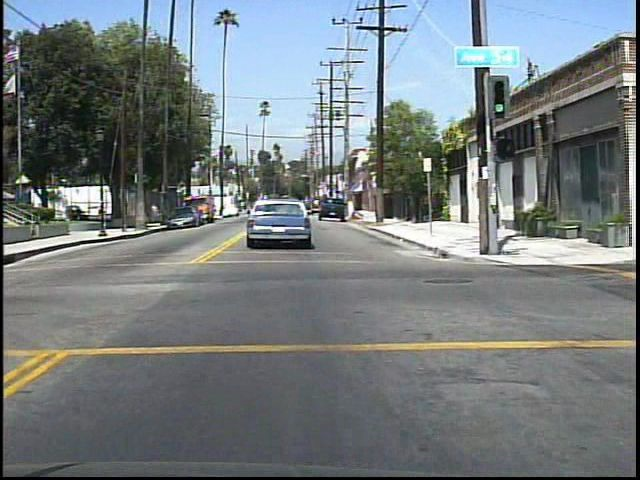person: (151, 205, 166, 230), (119, 194, 132, 217), (99, 198, 107, 220)
